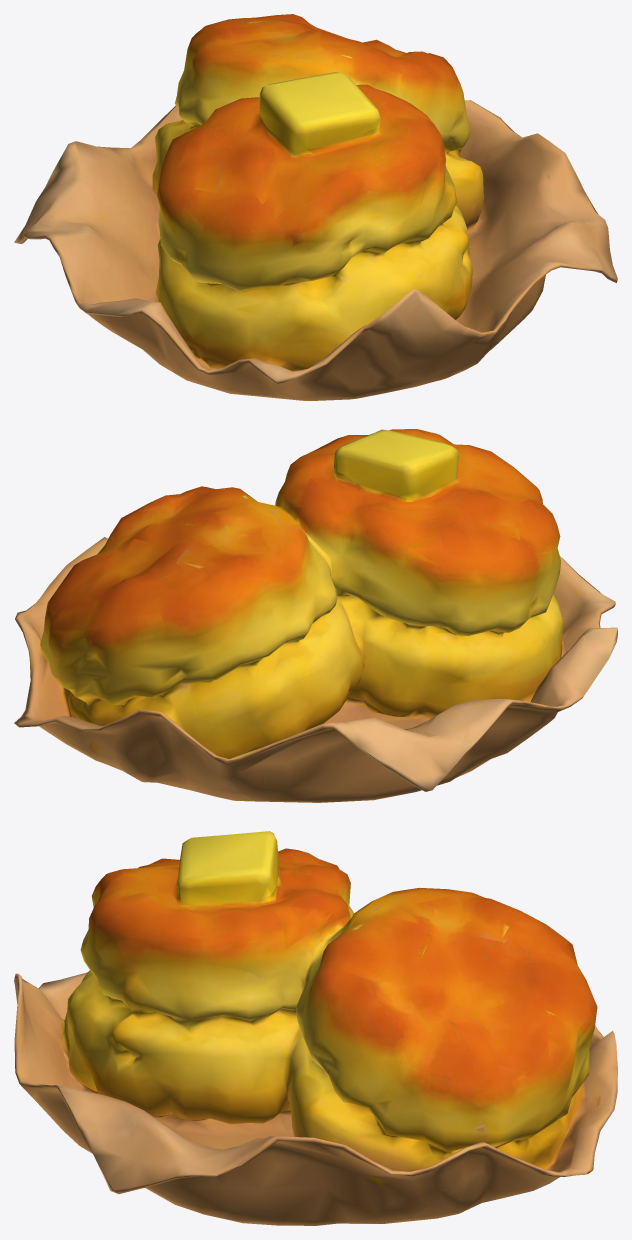
3 renders of one model, top to bottom at view 1: azimuth 30°, elevation 25°; view 2: azimuth 150°, elevation 25°; view 3: azimuth 270°, elevation 25°, orthographic. The views are drawn at different scales.
Visible parts, largest first — view 1: biscuit; view 2: biscuit; view 3: biscuit.
Boxes of the visible parts, x1,y1,x2,y2 form: biscuit: (14, 14, 617, 400); biscuit: (14, 429, 617, 802); biscuit: (14, 831, 617, 1225).
Bounding box in the file's own units: 0.1399 × 0.0696 × 0.1413.
Materials: 1 (1 with a texture image).
